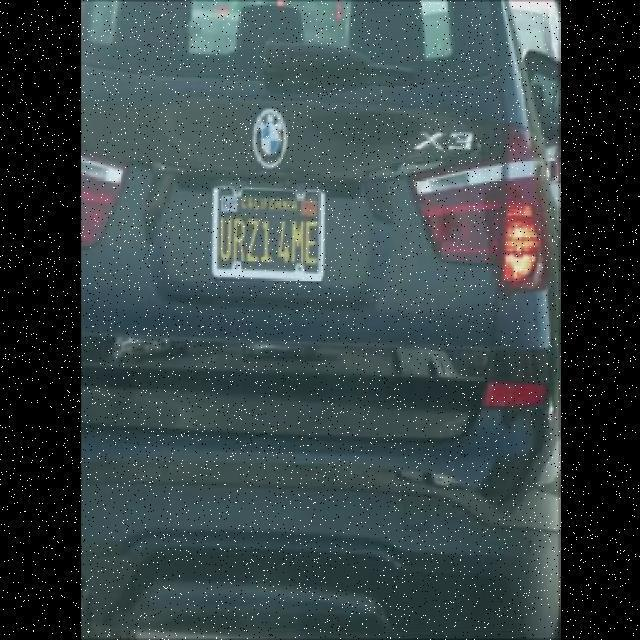LicensePlate: (213, 172, 324, 280)
